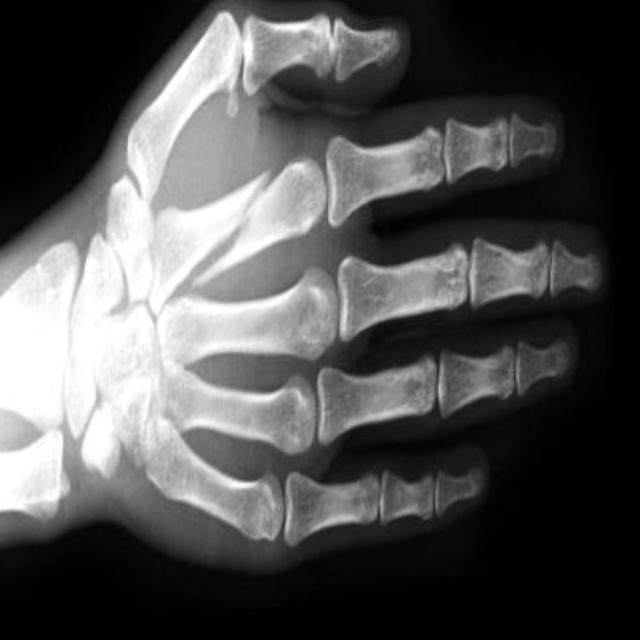fracture: (192, 156, 298, 296)
